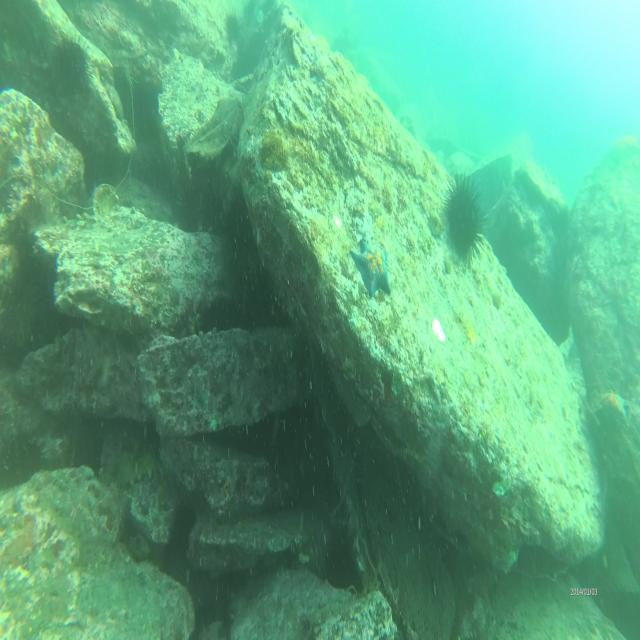echinus: (443, 168, 488, 270), (54, 31, 94, 94), (222, 8, 245, 45)
starfish: (349, 232, 394, 300), (598, 381, 628, 424)
